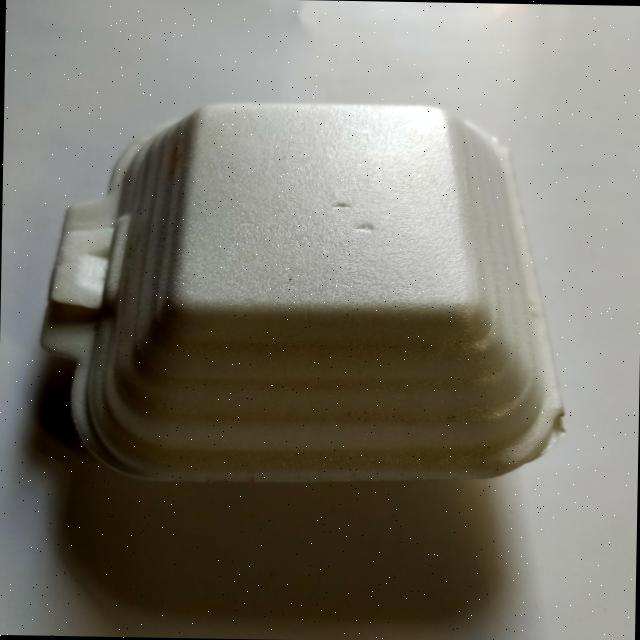styrofoam: (36, 94, 573, 496)
